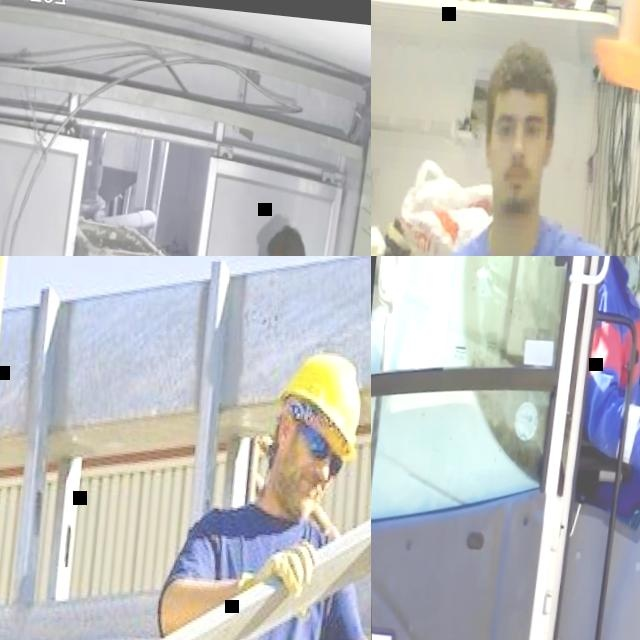Hardhat: (270, 345, 371, 455)
NO-Hardhat: (488, 39, 558, 109), (264, 227, 305, 256)
NO-Mask: (489, 161, 534, 215), (272, 471, 323, 513)
NO-Safety Vest: (183, 507, 344, 640), (437, 210, 602, 256)
Person: (131, 336, 371, 640), (409, 33, 640, 256), (551, 256, 640, 640)
Safety Vest: (577, 264, 640, 468)
machinery: (371, 256, 640, 640)
